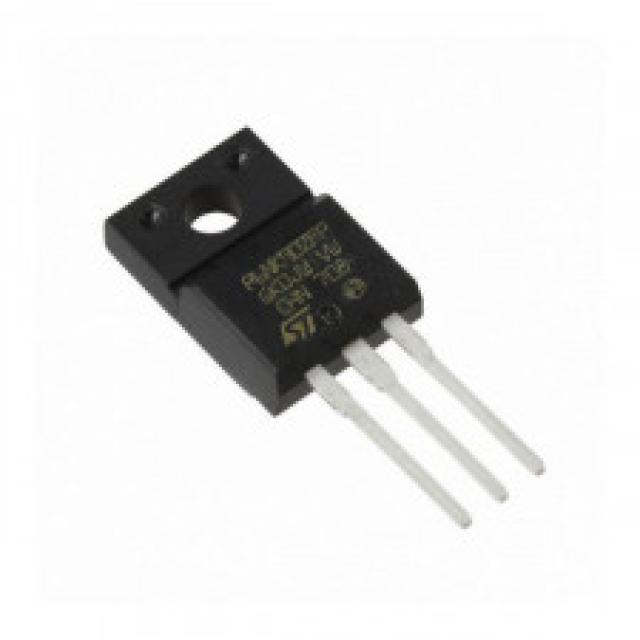Transistor: (104, 119, 544, 526)
